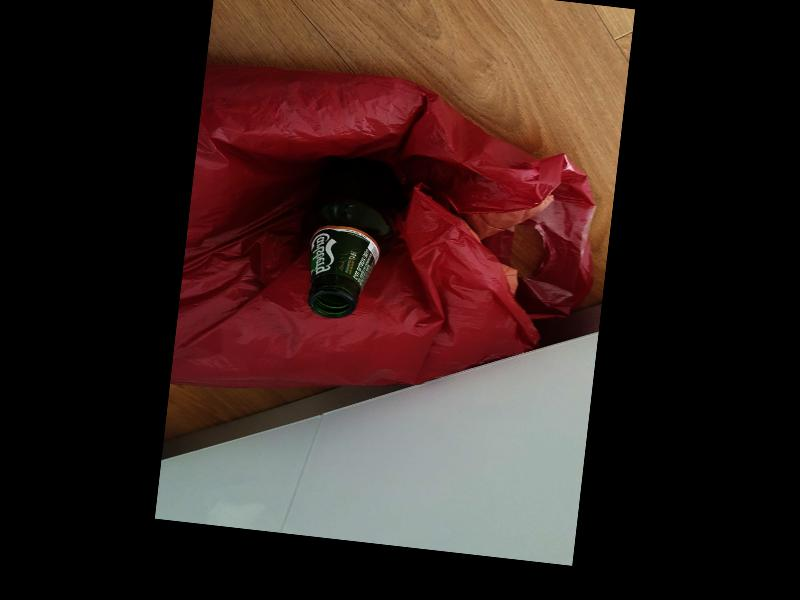Beer: (292, 151, 404, 322)
